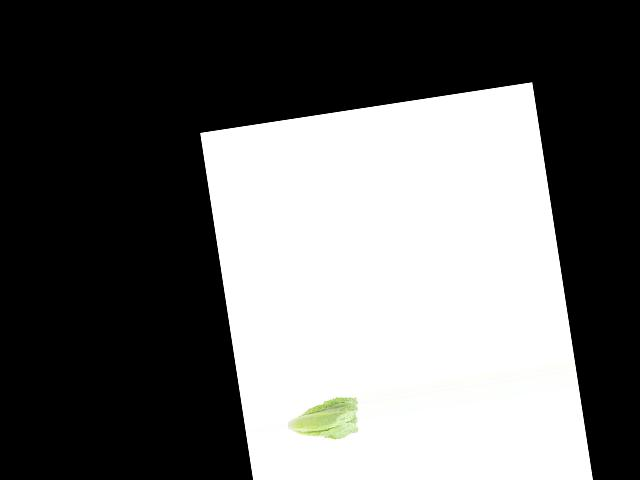lettuce: (285, 392, 363, 451)
